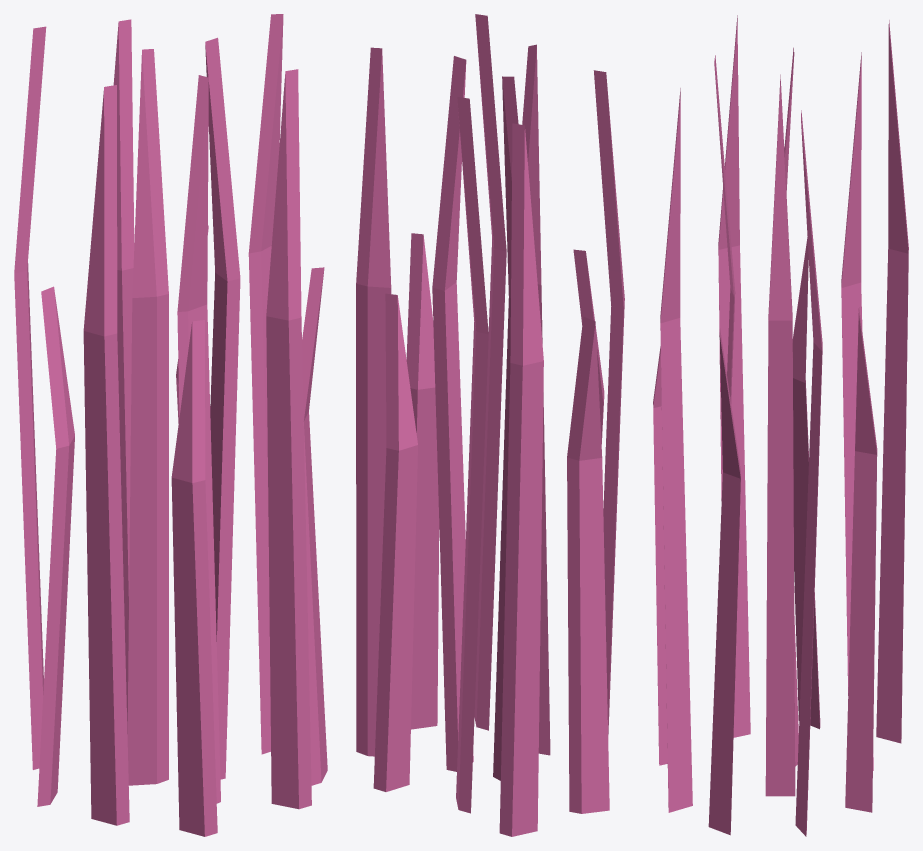
Rendered from grass.glb.
3 views of the same model, side by side, from view 1: azimuth 30°, elevation 25°; view 2: azimuth 150°, elevation 25°; view 3: azimuth 270°, elevation 25° (orthographic). The views are drawn at different scales.
Parts seen in each view (by area): view 1: Grass; view 2: Grass; view 3: Grass.
Boxes of the visible parts, x1,y1,x2,y2 form: Grass: (14,14,327,836); Grass: (356,14,624,836); Grass: (653,15,908,836).
Bounding box in the file's own units: 3.74 × 10.13 × 3.27.
